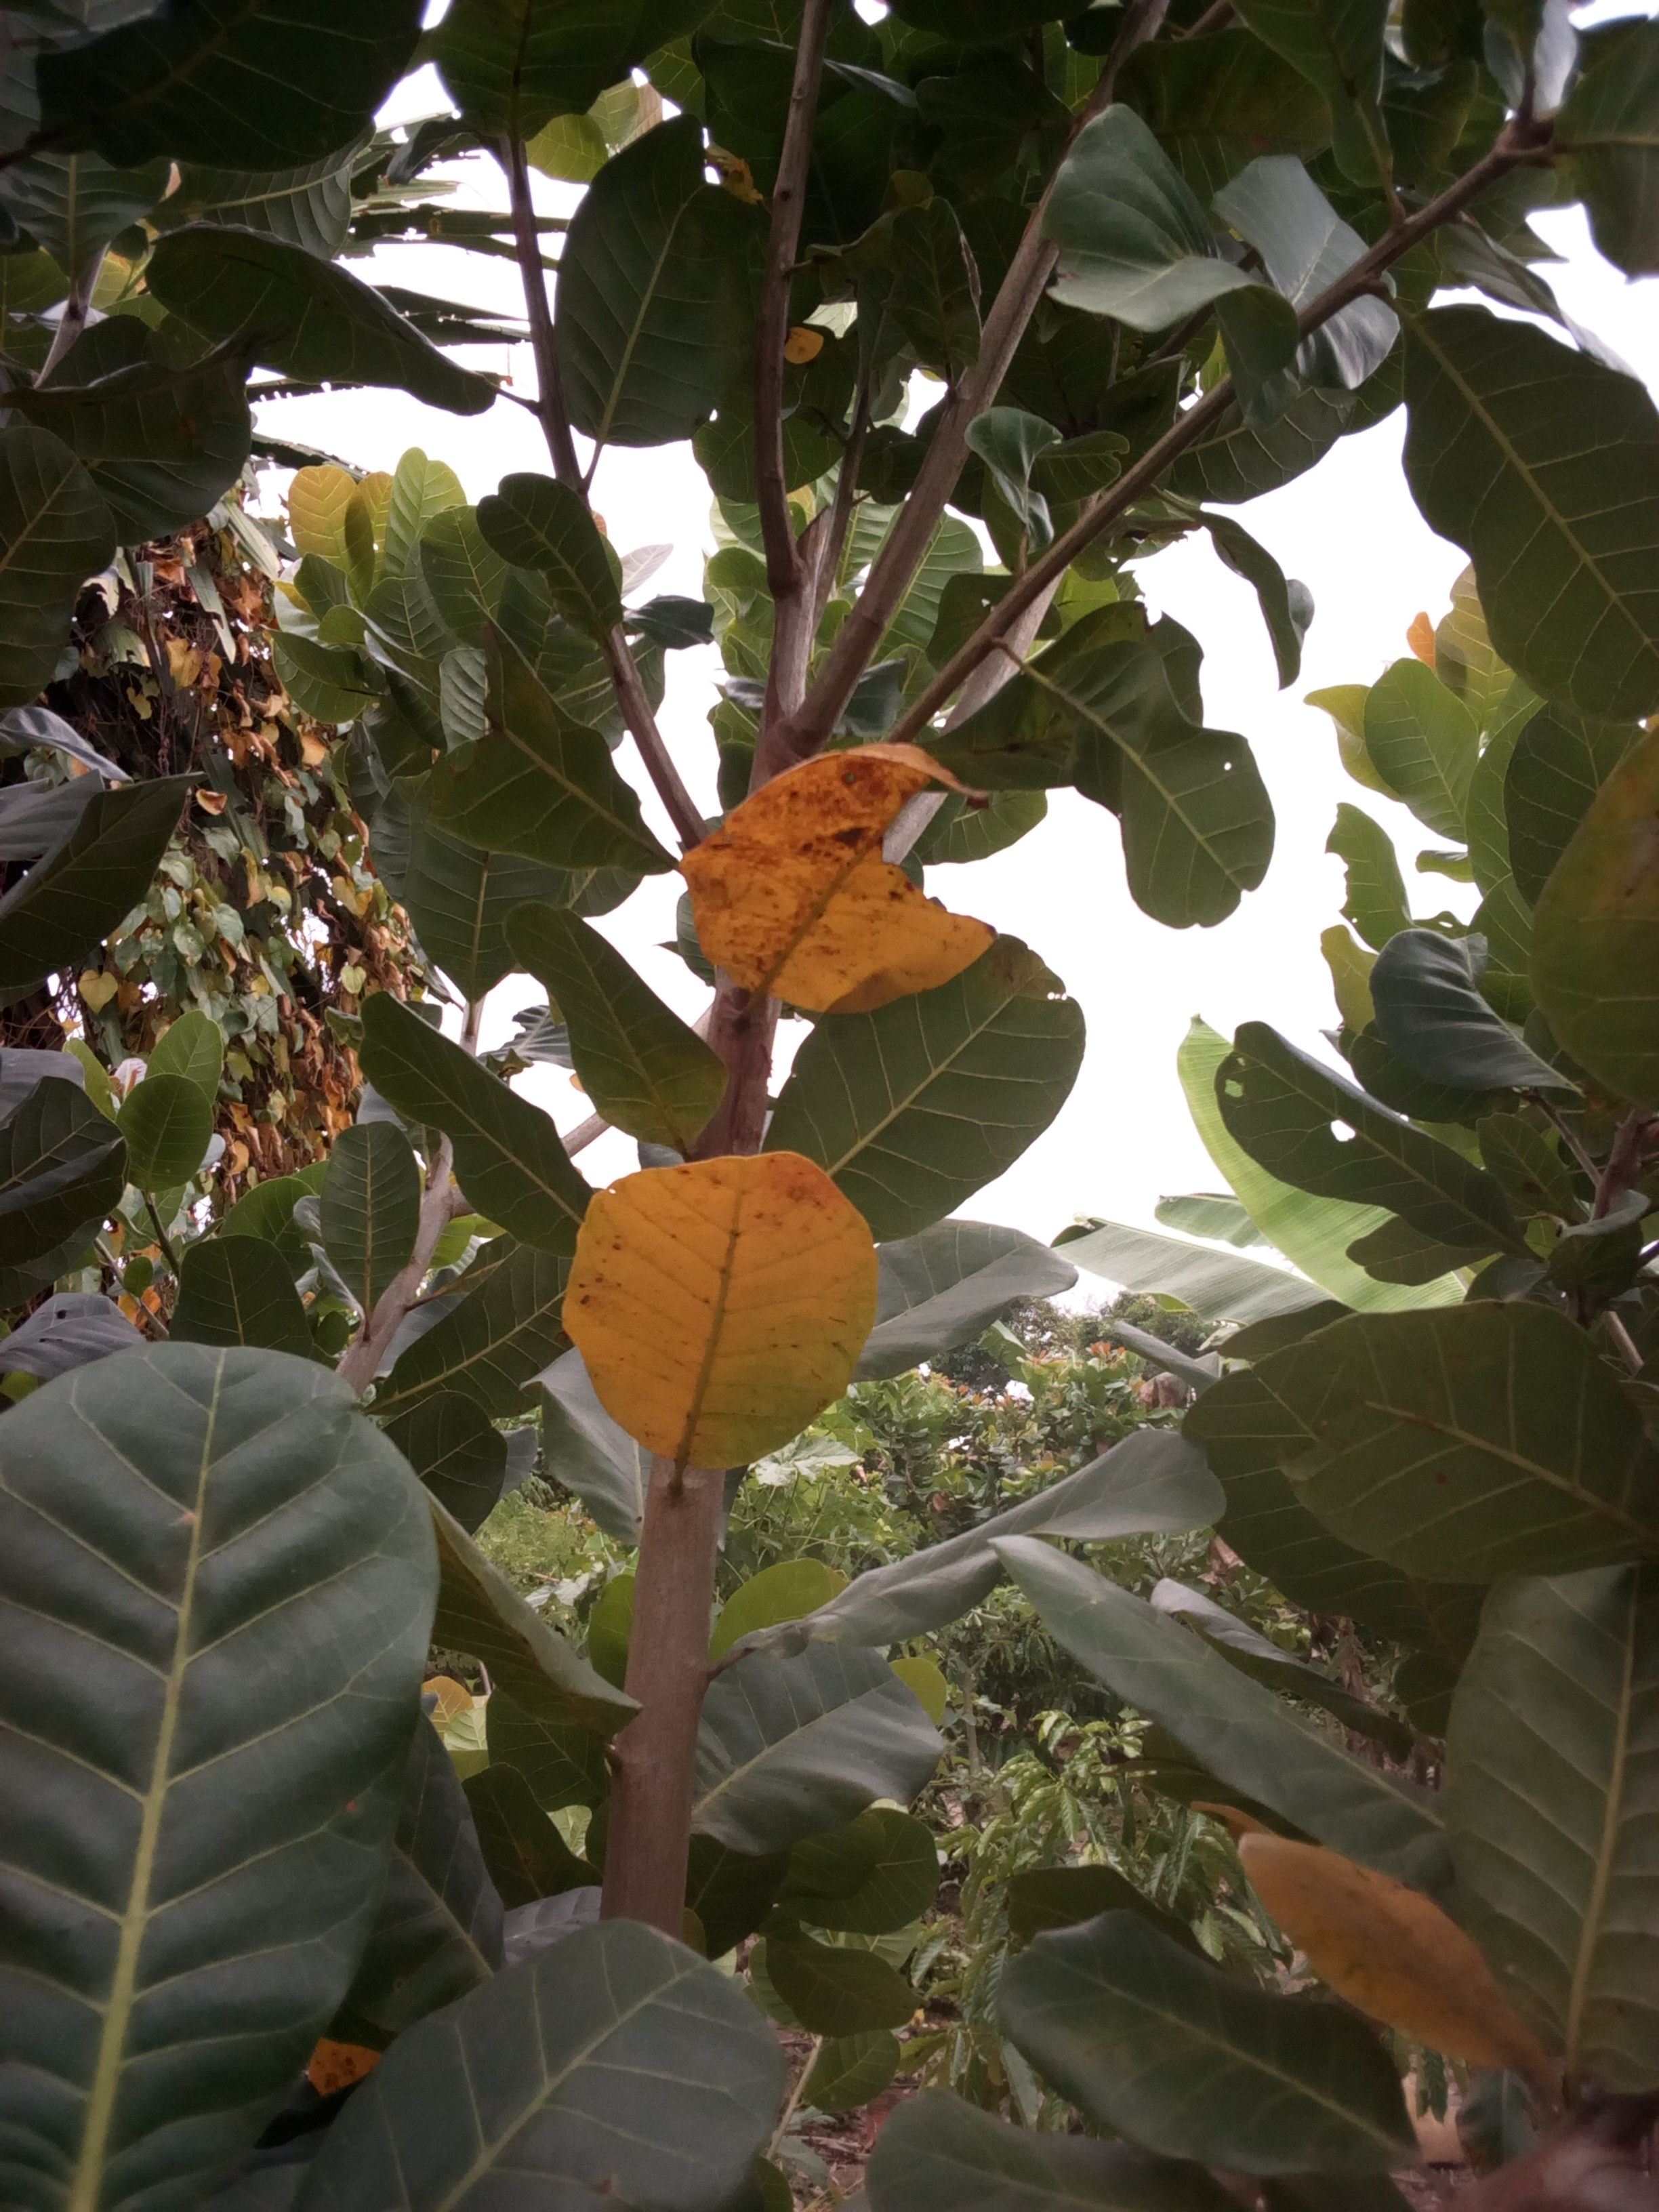Alternariose: (558, 1146, 873, 1465), (674, 751, 1002, 1008), (1253, 1838, 1537, 2062)
